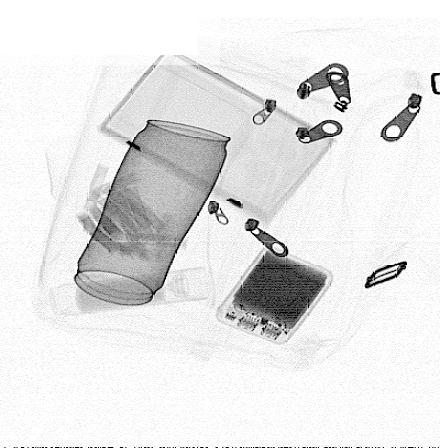Powerbank: (215, 243, 333, 345)
